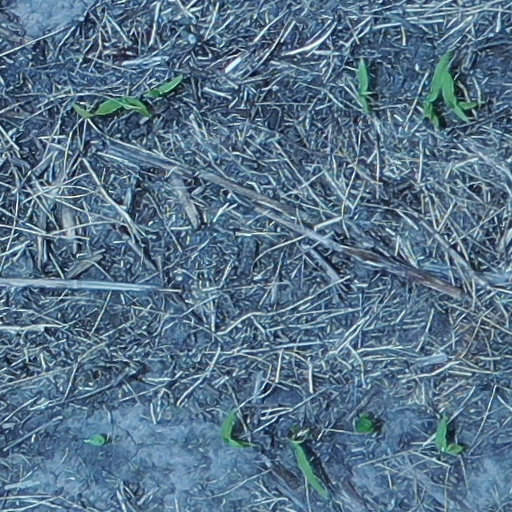planta: (441, 63, 478, 121), (422, 54, 448, 127), (293, 440, 324, 493), (73, 96, 150, 117), (221, 411, 252, 447), (435, 416, 464, 454), (357, 61, 374, 112), (145, 75, 182, 95)
